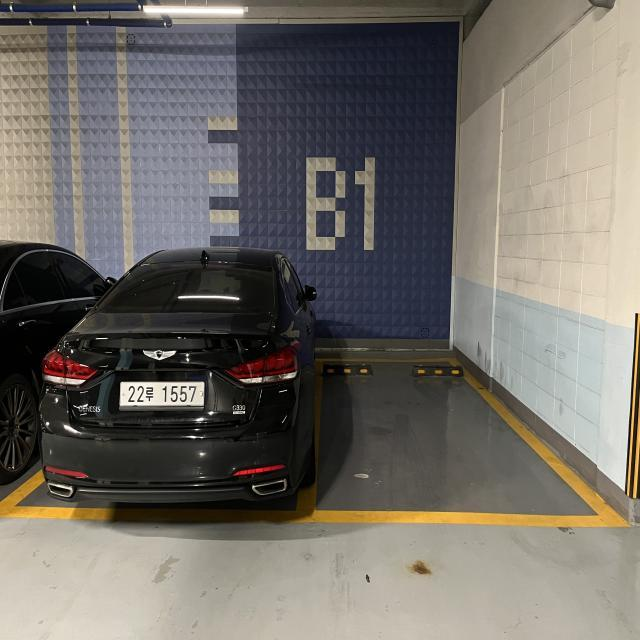empty: (305, 349, 636, 526)
occupied: (18, 213, 313, 544)
